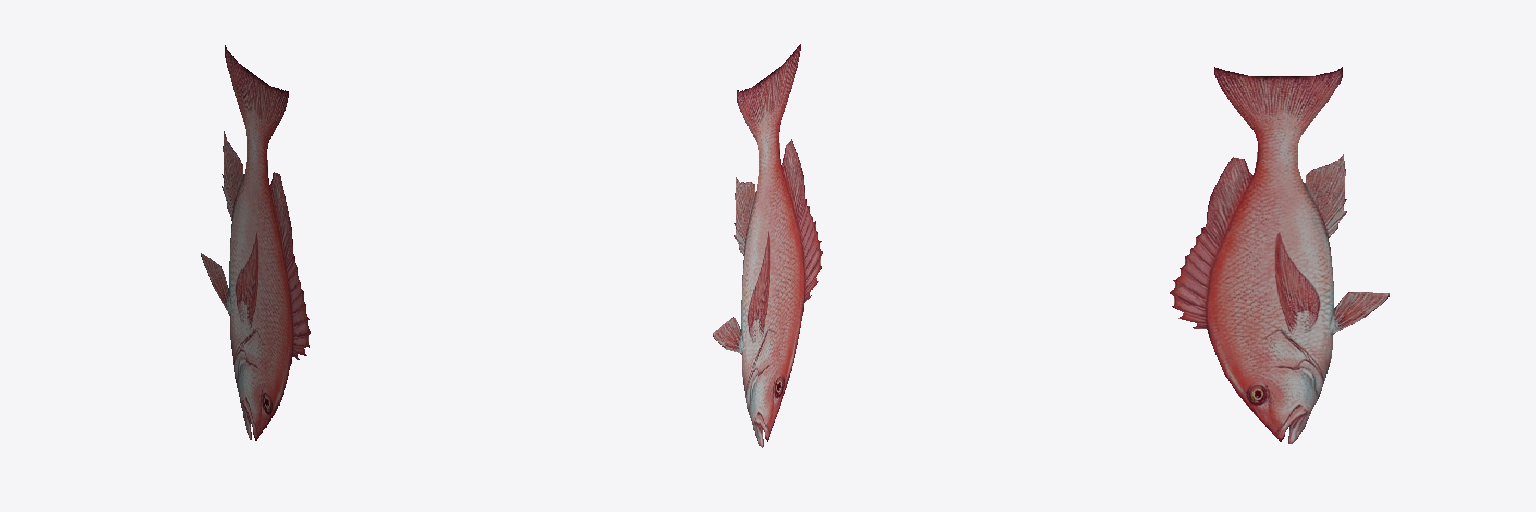
3 renders of one model, left to right at view 1: azimuth 30°, elevation 25°; view 2: azimuth 150°, elevation 25°; view 3: azimuth 270°, elevation 25°, orthographic.
Bounding box in the file's own units: 0 × 2 × 1.06.
Materials: 1 (1 with a texture image).